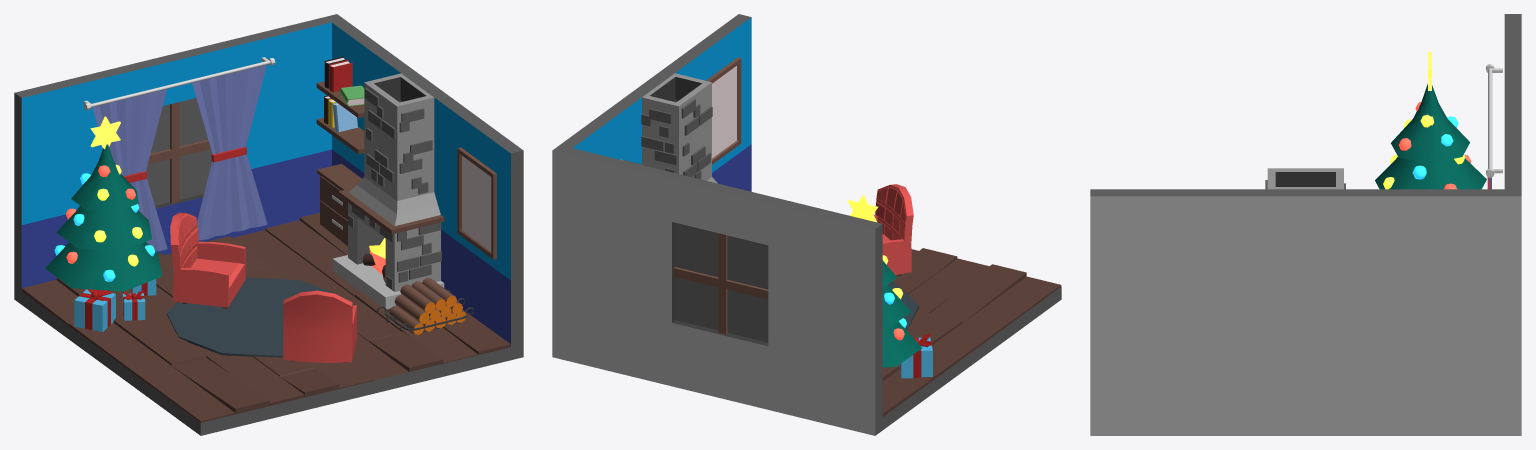
The model's file is Christmas_Eve.glb.
3 views of the same model, side by side, from view 1: azimuth 30°, elevation 25°; view 2: azimuth 150°, elevation 25°; view 3: azimuth 270°, elevation 25° (orthographic). The views are drawn at different scales.
Parts seen in each view (by area): view 1: Room_Material #246_0, Floor_Material #246_0, Fireplace_Material #246_0, Christmas_tree_Material #246_0, Curtain2_Material #246_0, Rug_Material #246_0, Chair1_Material #246_0, Chair2_Material #246_0, Curtain1_Material #246_0, Glass_21 - Default_0, Picture_Material #246_0, Wood_Material #246_0 (+9 smaller); view 2: Room_Material #246_0, Floor_Material #246_0, Glass_21 - Default_0, Fireplace_Material #246_0, Christmas_tree_Material #246_0, Chair2_Material #246_0, Picture_Material #246_0, Window_Material #246_0, Present1_Material #246_0; view 3: Room_Material #246_0, Christmas_tree_Material #246_0, Fireplace_Material #246_0, Curtain_rod_Material #246_0.
Boxes of the visible parts, left/top/right/bottom form: Room_Material #246_0: left=14, top=14, right=523, bottom=435; Floor_Material #246_0: left=22, top=212, right=510, bottom=422; Fireplace_Material #246_0: left=332, top=73, right=444, bottom=309; Christmas_tree_Material #246_0: left=45, top=116, right=162, bottom=298; Curtain2_Material #246_0: left=192, top=64, right=267, bottom=240; Rug_Material #246_0: left=166, top=277, right=343, bottom=357; Chair1_Material #246_0: left=170, top=212, right=245, bottom=308; Chair2_Material #246_0: left=283, top=290, right=356, bottom=362; Curtain1_Material #246_0: left=92, top=89, right=167, bottom=251; Glass_21 - Default_0: left=146, top=98, right=212, bottom=205; Picture_Material #246_0: left=457, top=147, right=496, bottom=259; Wood_Material #246_0: left=389, top=278, right=466, bottom=334; Room_Material #246_0: left=552, top=14, right=1061, bottom=435; Floor_Material #246_0: left=882, top=248, right=1061, bottom=416; Glass_21 - Default_0: left=675, top=223, right=768, bottom=342; Fireplace_Material #246_0: left=641, top=73, right=717, bottom=183; Christmas_tree_Material #246_0: left=848, top=195, right=921, bottom=367; Chair2_Material #246_0: left=874, top=184, right=913, bottom=276; Picture_Material #246_0: left=706, top=57, right=741, bottom=164; Window_Material #246_0: left=673, top=233, right=768, bottom=334; Present1_Material #246_0: left=899, top=334, right=932, bottom=378; Room_Material #246_0: left=1090, top=14, right=1521, bottom=435; Christmas_tree_Material #246_0: left=1375, top=52, right=1486, bottom=189; Fireplace_Material #246_0: left=1265, top=168, right=1345, bottom=189; Curtain_rod_Material #246_0: left=1486, top=64, right=1502, bottom=177.
Size of the model in its own units: 400 by 245 by 400.
2 materials, 1 textured.
